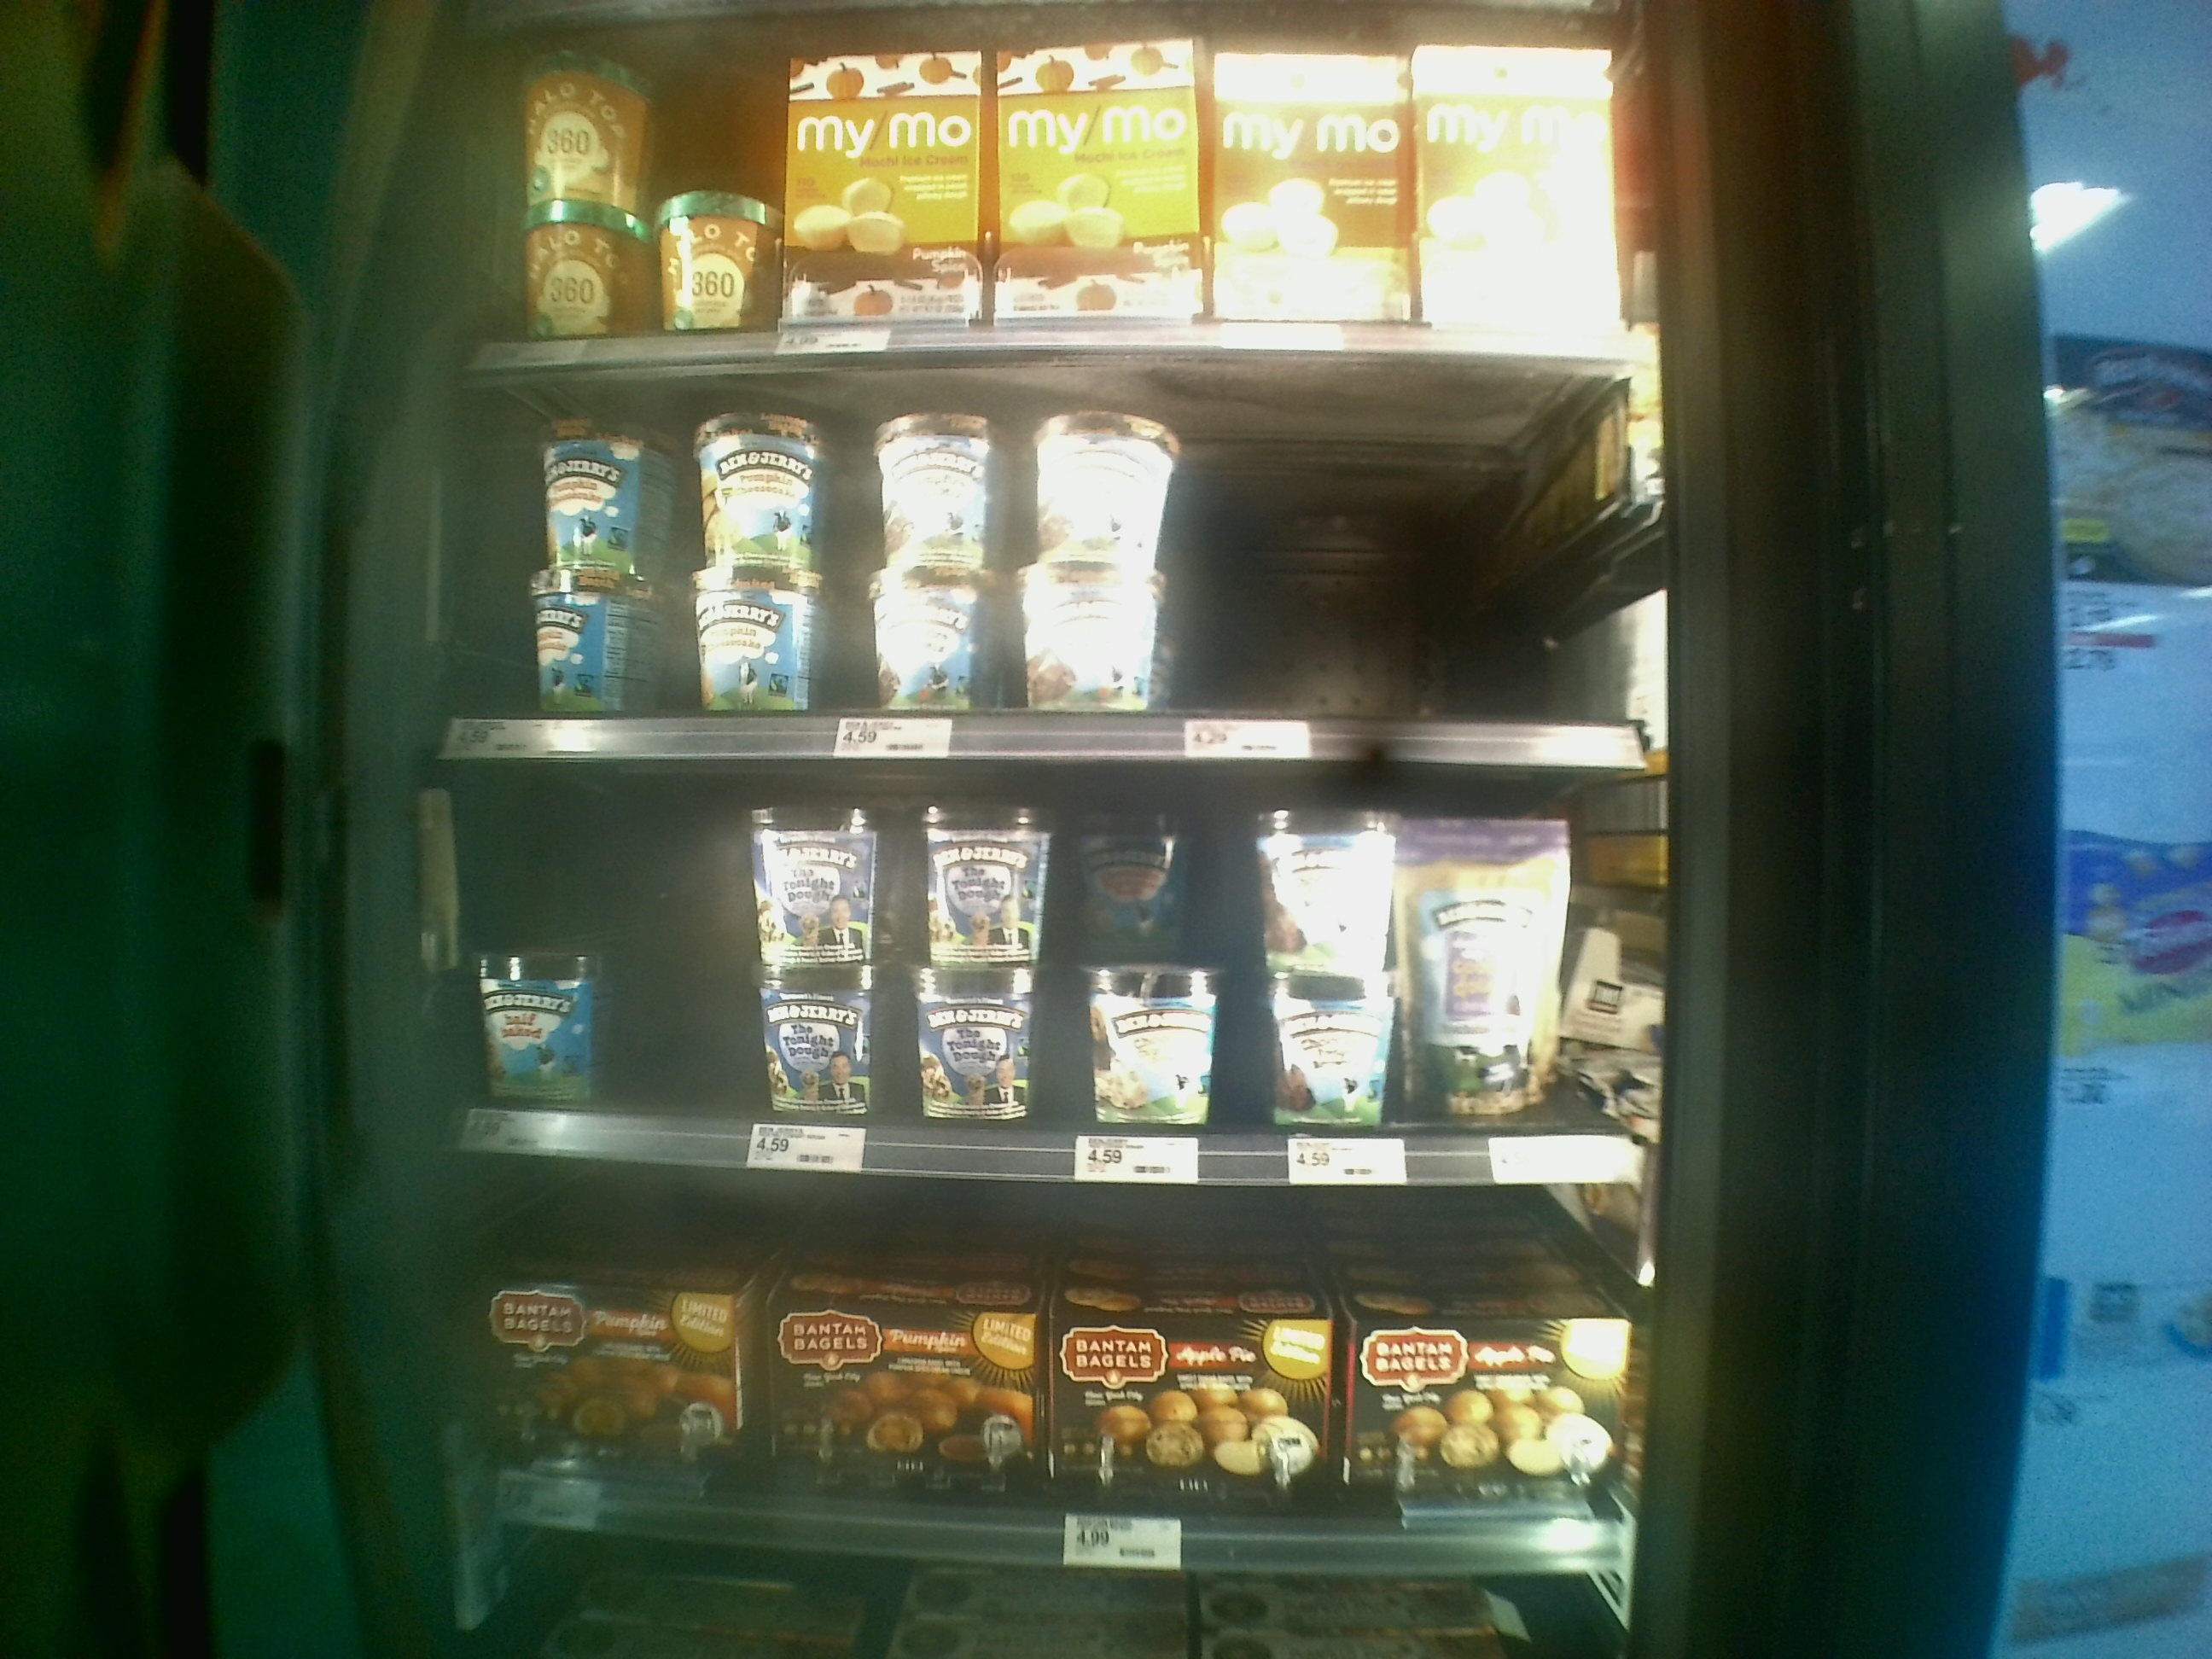shelf: (415, 1117, 1620, 1560), (413, 732, 1620, 1164), (427, 354, 1644, 753)
